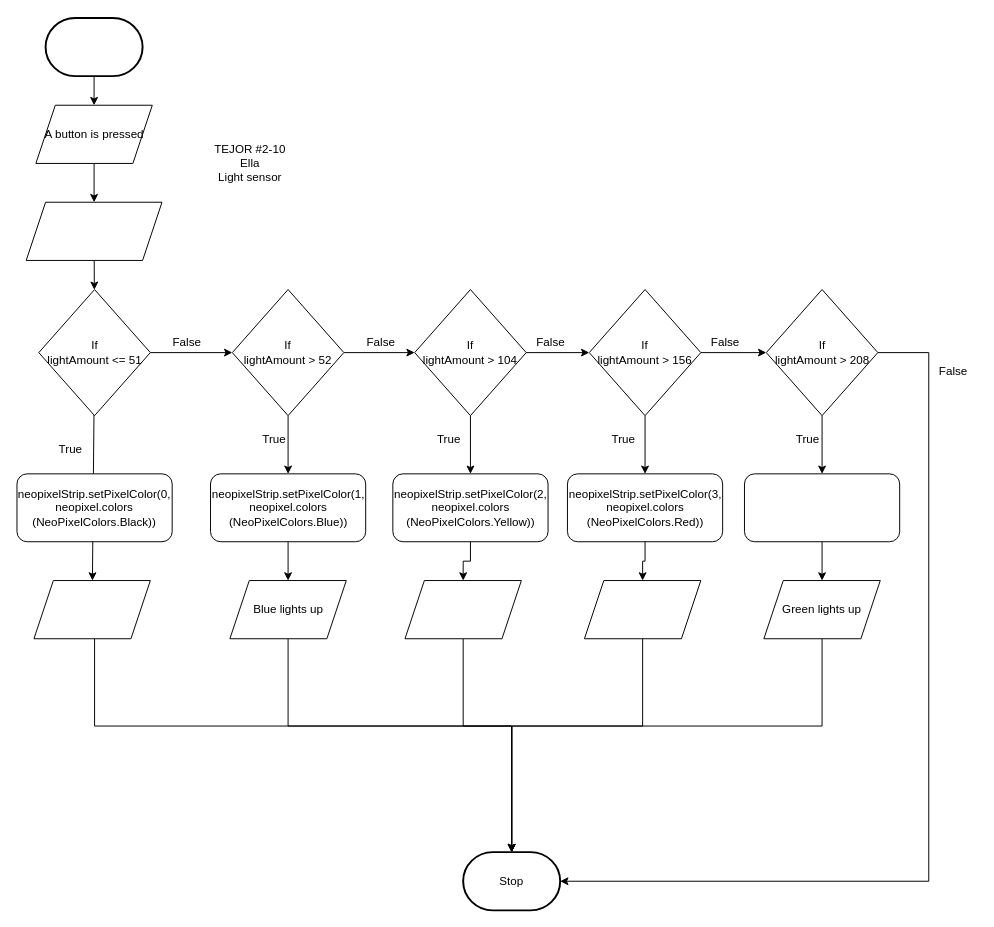
The diagram is 994 pixels wide and 927 high, and some of its shapes have lost their labels. Here are the shapes that lost their labels. From the top down, the centre of each, then its label:
At point 93,46: "Start".
At point 93,230: "lightAmount = input.lightLevel()".
At point 822,507: "neopixelStrip.setPixelColor(4, neopixel.colors (NeoPixelColors.Green))".
At point 91,609: "Nothing lights up".
At point 462,609: "Yellow lights up".
At point 642,609: "Red lights up".
